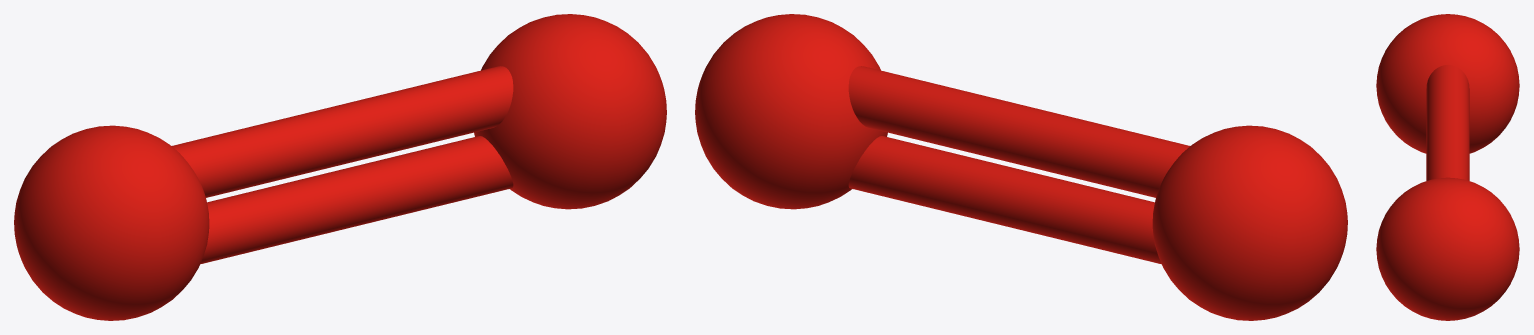
File: Oxygen.glb
The picture shows the model from 3 angles, left to right: view 1: azimuth 30°, elevation 25°; view 2: azimuth 150°, elevation 25°; view 3: azimuth 270°, elevation 25°; orthographic projection. The views are drawn at different scales.
Size of the model in its own units: 1.69 by 0.456 by 0.456.
